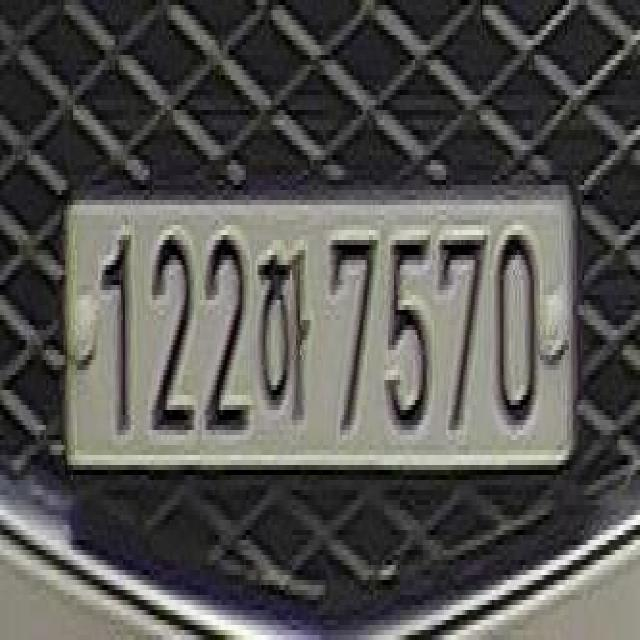illegal_plate: (65, 169, 580, 512)
